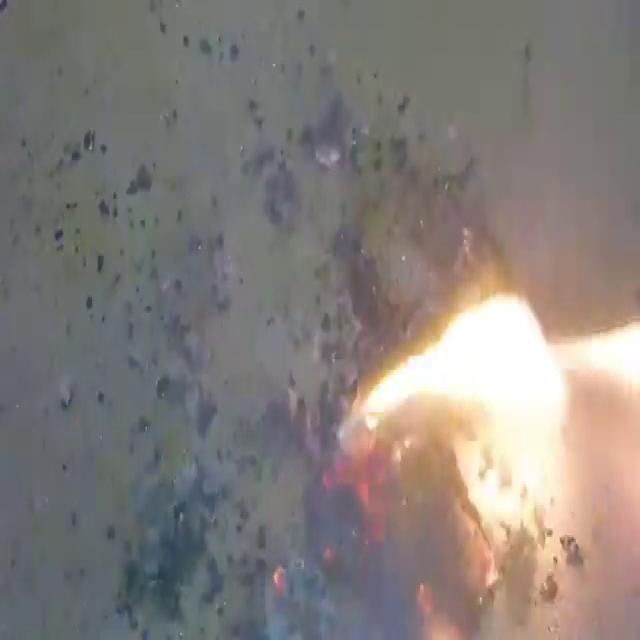Fire: (354, 284, 571, 524)
